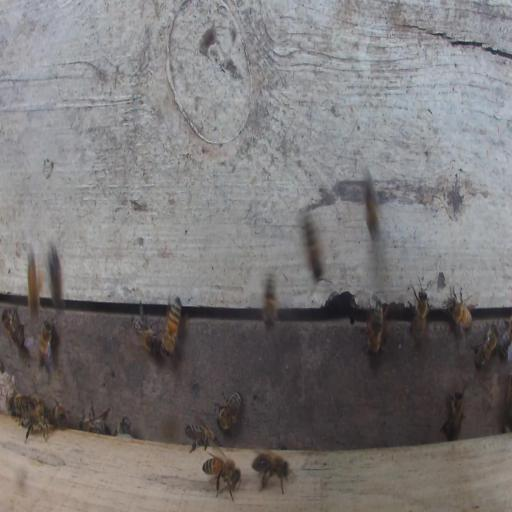nonpollenbee: (201, 454, 241, 501), (252, 449, 290, 494), (360, 296, 385, 355), (439, 389, 465, 440), (160, 295, 181, 358), (302, 215, 322, 279), (363, 165, 380, 240), (473, 322, 499, 371), (132, 307, 160, 352), (184, 422, 220, 453), (215, 390, 241, 432), (1, 307, 25, 350), (262, 273, 278, 333), (81, 404, 111, 434), (412, 291, 428, 341), (38, 319, 53, 372), (49, 244, 61, 308), (448, 297, 471, 328), (21, 405, 49, 428), (499, 314, 512, 360), (51, 397, 67, 428), (11, 392, 29, 413), (119, 416, 131, 435)
pollenbee: (24, 244, 46, 319)
